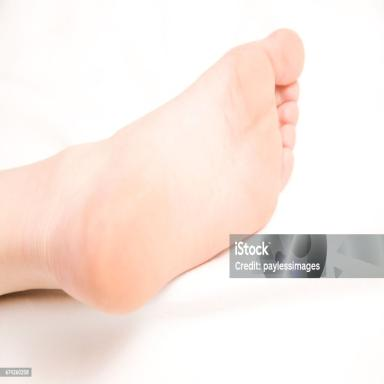normal skin: (0, 29, 304, 313)
